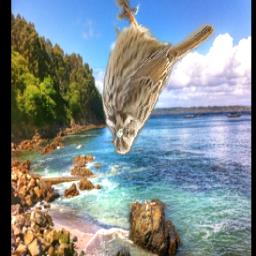Sparrow: (102, 0, 216, 155)
